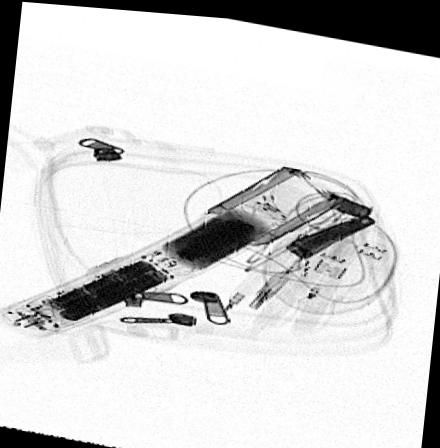Baton: (0, 161, 350, 338)
